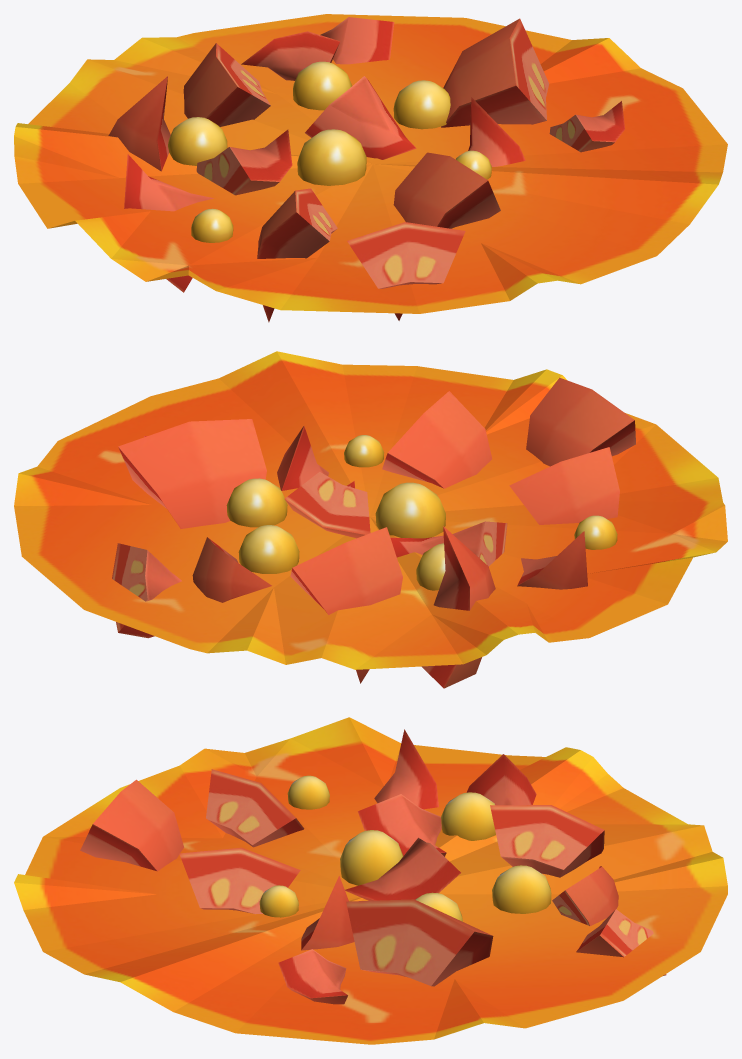
File: 世界餐厅-食材-碎番茄汤底-生（待删除）.FBX
3 views of the same model, one above another, from view 1: azimuth 30°, elevation 25°; view 2: azimuth 150°, elevation 25°; view 3: azimuth 270°, elevation 25° (orthographic).
Visible parts, largest first — view 1: 世界餐厅-食材-碎番茄汤底-生; view 2: 世界餐厅-食材-碎番茄汤底-生; view 3: 世界餐厅-食材-碎番茄汤底-生.
Part boxes in pixels (x1,y1,x2,y2): 世界餐厅-食材-碎番茄汤底-生: [14, 14, 727, 322]; 世界餐厅-食材-碎番茄汤底-生: [14, 351, 727, 688]; 世界餐厅-食材-碎番茄汤底-生: [14, 717, 727, 1044].
Bounding box in the file's own units: 40.39 × 10.03 × 40.46.
Materials: 1 (1 with a texture image).
